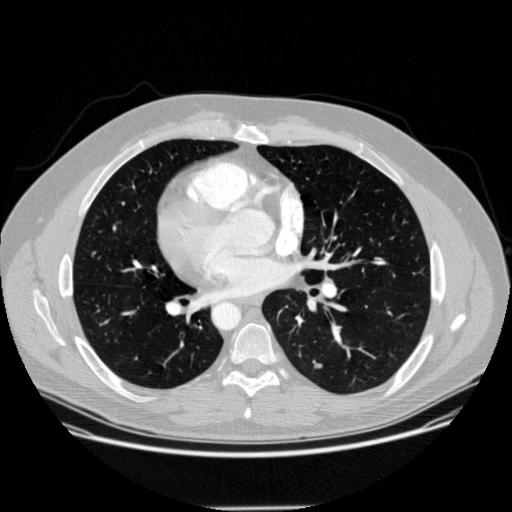nodule: (315, 361, 326, 372)
